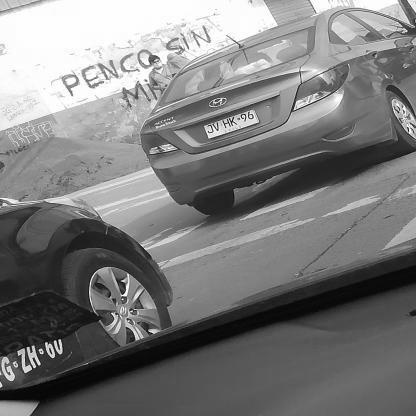Patente: (198, 107, 263, 141)
